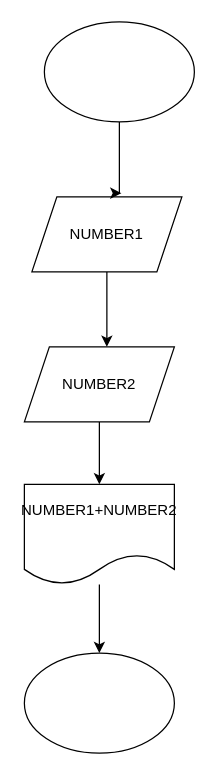
This 216x775 diagram has some shape labels left out. Here are the shapes that lost their labels. From the top down, the box of each, then its label:
(43, 21, 194, 122): START
(23, 652, 174, 753): RESULT
